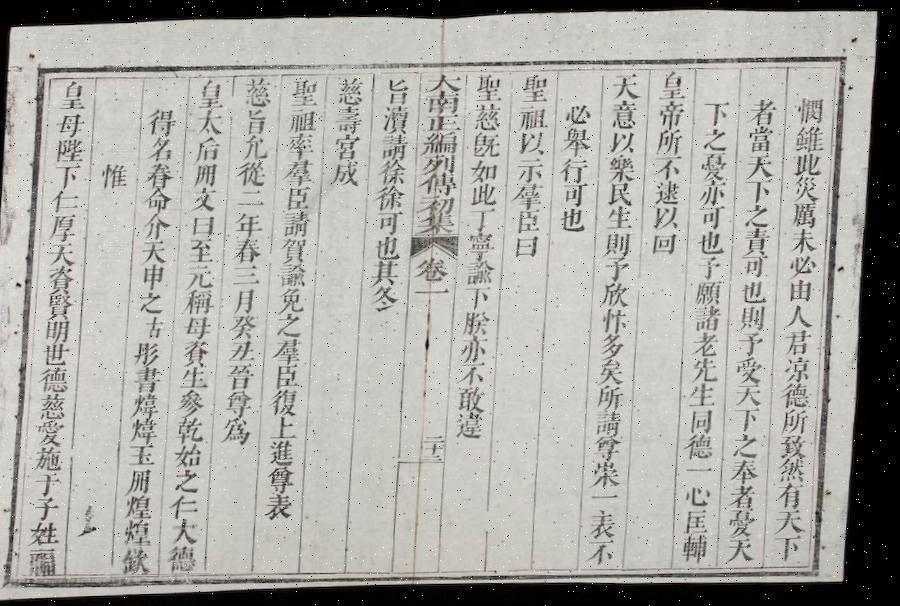c: (417, 254, 456, 284), (196, 76, 230, 110), (519, 72, 554, 105), (593, 506, 629, 538), (32, 547, 70, 577), (242, 75, 276, 108), (288, 76, 322, 108), (56, 79, 90, 111), (606, 154, 641, 185), (334, 75, 370, 105), (746, 96, 782, 126), (794, 94, 830, 124), (595, 459, 631, 489), (608, 100, 644, 130), (147, 106, 182, 136), (99, 160, 134, 190), (793, 124, 829, 153), (608, 72, 645, 100), (658, 68, 690, 100), (472, 102, 506, 132), (380, 104, 414, 134), (686, 534, 720, 564), (688, 432, 724, 460), (236, 160, 272, 188), (173, 544, 209, 572), (422, 172, 462, 197), (33, 520, 70, 547), (468, 230, 501, 260), (778, 508, 816, 534), (333, 105, 367, 134), (732, 508, 766, 537), (562, 127, 596, 156), (127, 546, 162, 574), (41, 392, 76, 420), (371, 286, 406, 314), (225, 416, 260, 444), (174, 516, 209, 544), (269, 492, 304, 520), (42, 365, 78, 392), (426, 90, 463, 116), (474, 72, 506, 102), (422, 132, 462, 156), (699, 151, 732, 180), (330, 160, 364, 188), (284, 158, 318, 186), (195, 108, 229, 136), (48, 265, 82, 293), (133, 416, 167, 444), (780, 481, 814, 509), (180, 388, 214, 416), (560, 156, 594, 184), (592, 538, 626, 566), (128, 518, 162, 546), (273, 388, 307, 416), (784, 407, 818, 435), (184, 338, 218, 366), (234, 236, 268, 264), (513, 183, 548, 210), (38, 445, 73, 472), (50, 212, 82, 241), (461, 384, 494, 412), (656, 100, 689, 128), (695, 304, 728, 332), (229, 362, 262, 390), (271, 465, 304, 493), (518, 105, 552, 132), (745, 153, 779, 180), (378, 160, 412, 187), (178, 416, 212, 443), (282, 210, 316, 237), (286, 132, 320, 159), (732, 537, 766, 564), (472, 132, 506, 159), (234, 210, 268, 237), (47, 292, 81, 319), (598, 383, 632, 410), (276, 337, 310, 364), (784, 381, 818, 408), (136, 366, 170, 393), (186, 264, 221, 290), (371, 260, 406, 286), (39, 419, 74, 445), (419, 212, 460, 234), (384, 76, 415, 105), (603, 280, 635, 308), (605, 230, 637, 258), (747, 125, 779, 153), (188, 236, 220, 264), (333, 133, 365, 161), (744, 227, 776, 255), (695, 330, 727, 358), (144, 212, 176, 240), (232, 312, 264, 340), (738, 356, 770, 384), (460, 410, 492, 438), (560, 206, 592, 234), (786, 328, 818, 356), (463, 336, 496, 363), (790, 227, 823, 254), (465, 309, 498, 336), (655, 128, 688, 155), (272, 438, 305, 465), (516, 131, 550, 157), (186, 288, 220, 314), (379, 134, 413, 160), (136, 340, 170, 366), (376, 186, 410, 212), (596, 434, 630, 460), (175, 492, 209, 518), (134, 392, 168, 418), (132, 442, 166, 468), (287, 108, 321, 134), (177, 442, 211, 468), (131, 466, 162, 494), (699, 180, 731, 207), (741, 304, 773, 331), (598, 409, 630, 436), (780, 534, 812, 561), (734, 483, 766, 510), (603, 307, 635, 334), (792, 175, 824, 202), (786, 355, 818, 382), (56, 137, 89, 163), (129, 494, 162, 520), (228, 390, 261, 416), (56, 111, 89, 137), (426, 72, 465, 94), (787, 303, 820, 329), (48, 241, 82, 266), (51, 188, 85, 213), (690, 506, 720, 534), (195, 136, 226, 163), (792, 201, 823, 228), (702, 98, 733, 125), (516, 157, 548, 183), (694, 356, 726, 382), (146, 162, 178, 188), (241, 134, 273, 160), (600, 358, 632, 384), (142, 238, 174, 264), (282, 237, 314, 263), (740, 331, 772, 357), (276, 363, 308, 389), (278, 312, 310, 338), (468, 260, 500, 286), (784, 433, 816, 459), (744, 202, 776, 228), (280, 287, 312, 313), (692, 382, 724, 408), (736, 432, 768, 458), (701, 126, 733, 152), (470, 159, 503, 184), (177, 468, 210, 493), (183, 365, 216, 390), (234, 287, 264, 314), (697, 280, 728, 306), (471, 182, 502, 208), (607, 206, 638, 232), (690, 482, 721, 508), (285, 185, 316, 211), (148, 136, 179, 162), (654, 204, 685, 230), (794, 152, 826, 177), (564, 102, 596, 127), (654, 156, 686, 181), (790, 253, 822, 278), (608, 130, 640, 155), (144, 188, 176, 213), (231, 338, 263, 363), (274, 415, 306, 440), (783, 457, 815, 482), (654, 180, 686, 205), (38, 495, 70, 520), (38, 470, 70, 495), (422, 154, 462, 174), (281, 262, 313, 287), (54, 163, 86, 188), (735, 458, 767, 483), (186, 315, 218, 340), (738, 383, 771, 407), (243, 108, 273, 134), (142, 264, 172, 290), (377, 210, 407, 236), (470, 206, 500, 232), (738, 406, 768, 432), (516, 209, 546, 235), (376, 234, 406, 260), (692, 407, 722, 433), (699, 230, 730, 255), (699, 204, 730, 229), (746, 178, 777, 203), (462, 362, 494, 386), (45, 342, 77, 366), (234, 262, 266, 286), (516, 234, 545, 260), (47, 318, 77, 343), (607, 182, 638, 206), (743, 254, 774, 278), (605, 256, 636, 280), (192, 187, 221, 212), (603, 334, 632, 359), (416, 284, 456, 302), (424, 114, 464, 132), (561, 183, 591, 207), (467, 286, 498, 309), (420, 196, 461, 213), (141, 290, 170, 314), (237, 188, 270, 209), (744, 280, 772, 304), (654, 232, 682, 256), (700, 255, 728, 279), (790, 278, 818, 302), (191, 213, 220, 236), (194, 163, 222, 186), (145, 315, 171, 339), (690, 462, 722, 478), (595, 490, 629, 504), (429, 441, 451, 458), (430, 432, 450, 443)
